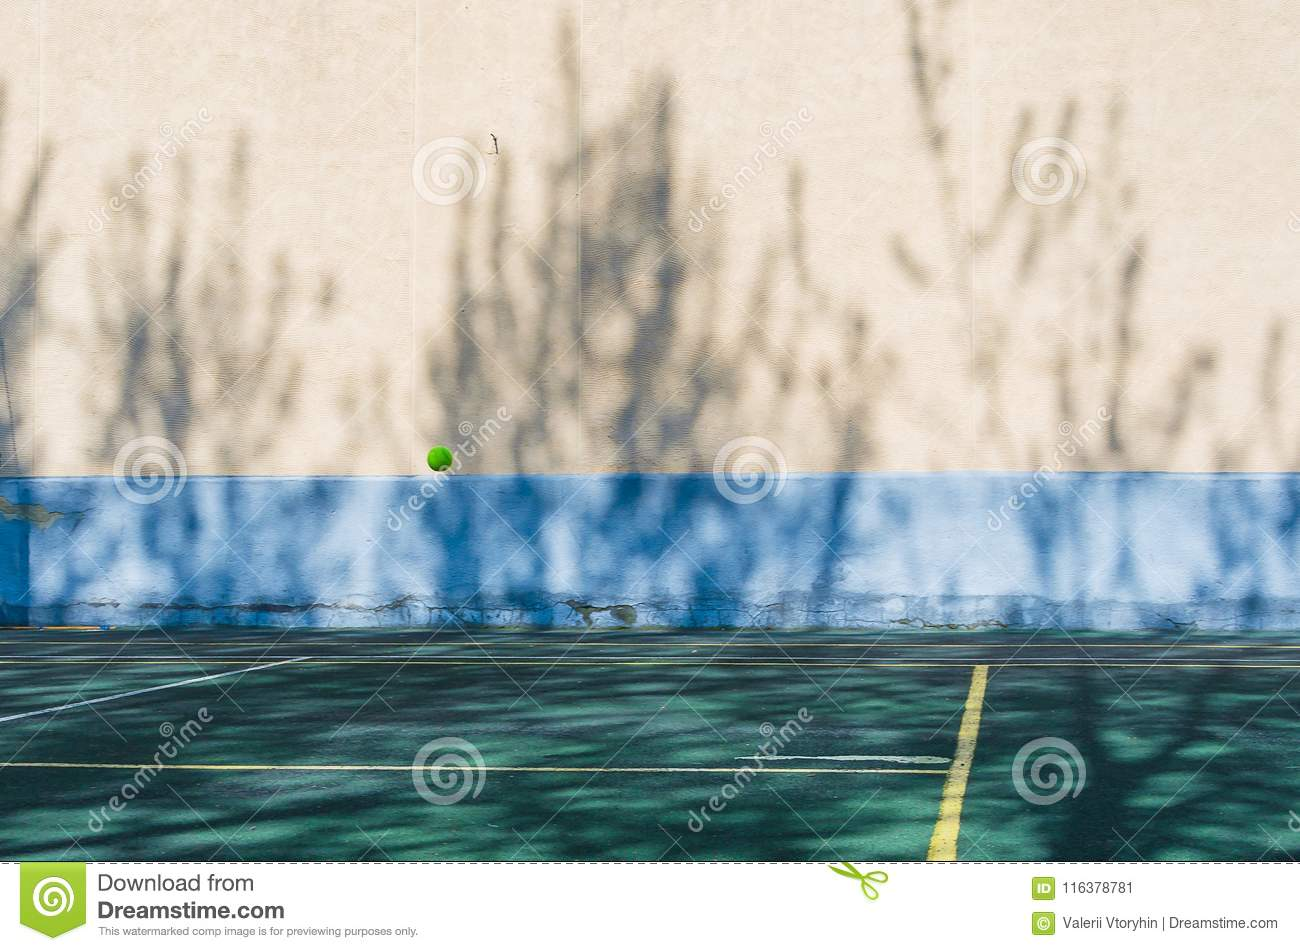tennis_ball: (421, 442, 456, 476)
